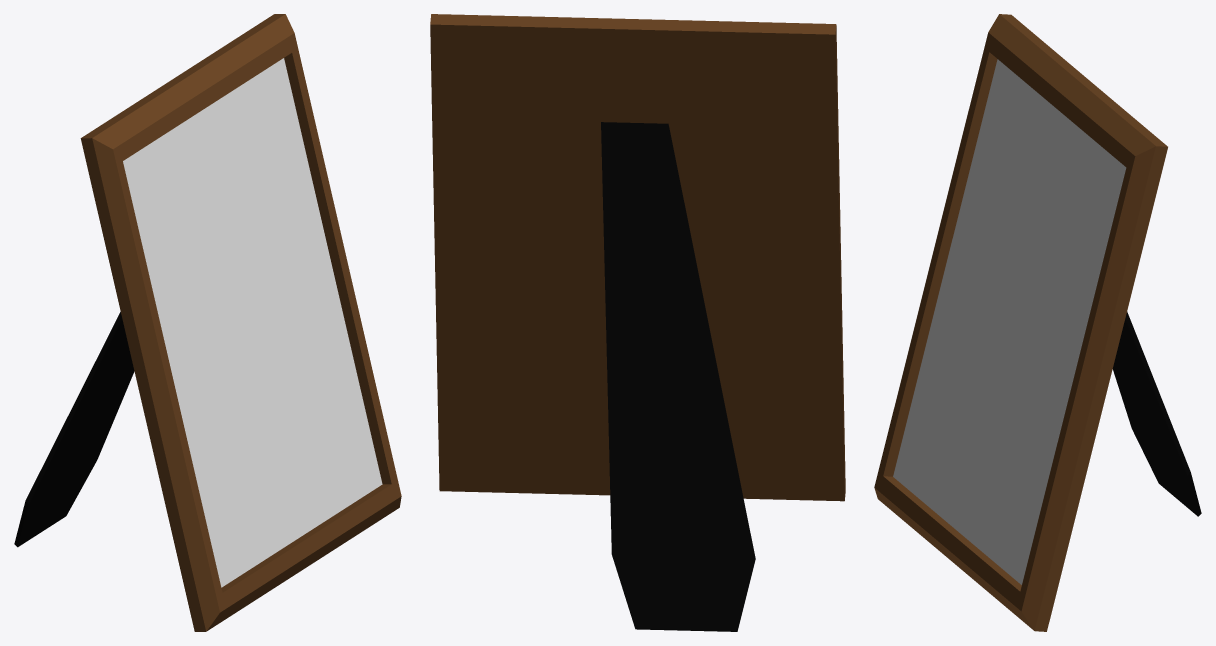
The model's file is Photograph.fbx.
3 views of the same model, side by side, from view 1: azimuth 30°, elevation 25°; view 2: azimuth 150°, elevation 25°; view 3: azimuth 270°, elevation 25° (orthographic). The views are drawn at different scales.
Parts seen in each view (by area): view 1: picture, PictureFrame; view 2: PictureFrame; view 3: picture, PictureFrame.
Part boxes in pixels (box(x1,y1,x2,y2)): picture: box(123, 58, 382, 587); PictureFrame: box(14, 14, 401, 631); PictureFrame: box(430, 14, 845, 631); picture: box(893, 59, 1126, 584); PictureFrame: box(874, 14, 1201, 631).
Bounding box in the file's own units: 13.16 × 17.85 × 11.35.
